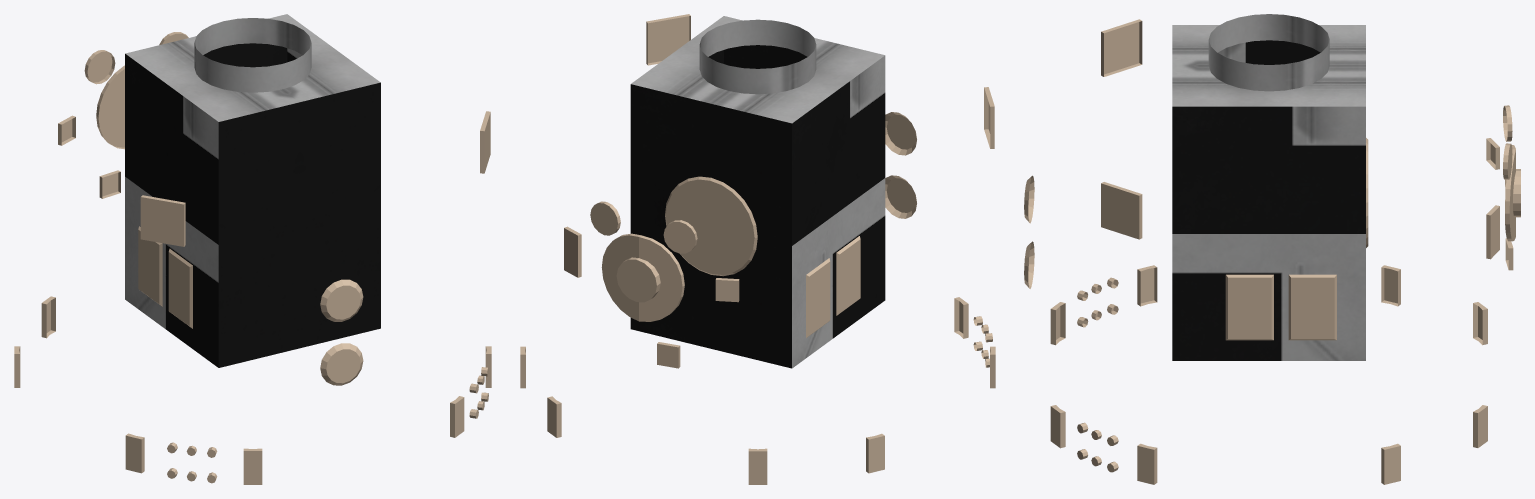
Rendered from vega_crew_s2_1_interior.obj.
3 views of the same model, side by side, from view 1: azimuth 30°, elevation 25°; view 2: azimuth 150°, elevation 25°; view 3: azimuth 270°, elevation 25° (orthographic). The views are drawn at different scales.
Visible parts, largest first — view 1: i1, im1; view 2: i1, im1; view 3: i1, im1.
Boxes of the visible parts, bbox=[...] form: i1: bbox=[125, 14, 380, 367]; im1: bbox=[14, 32, 491, 484]; i1: bbox=[630, 16, 885, 368]; im1: bbox=[520, 14, 995, 484]; i1: bbox=[1172, 14, 1365, 360]; im1: bbox=[1024, 19, 1520, 484].
Bounding box in the file's own units: 2.26 × 2.01 × 2.57.
